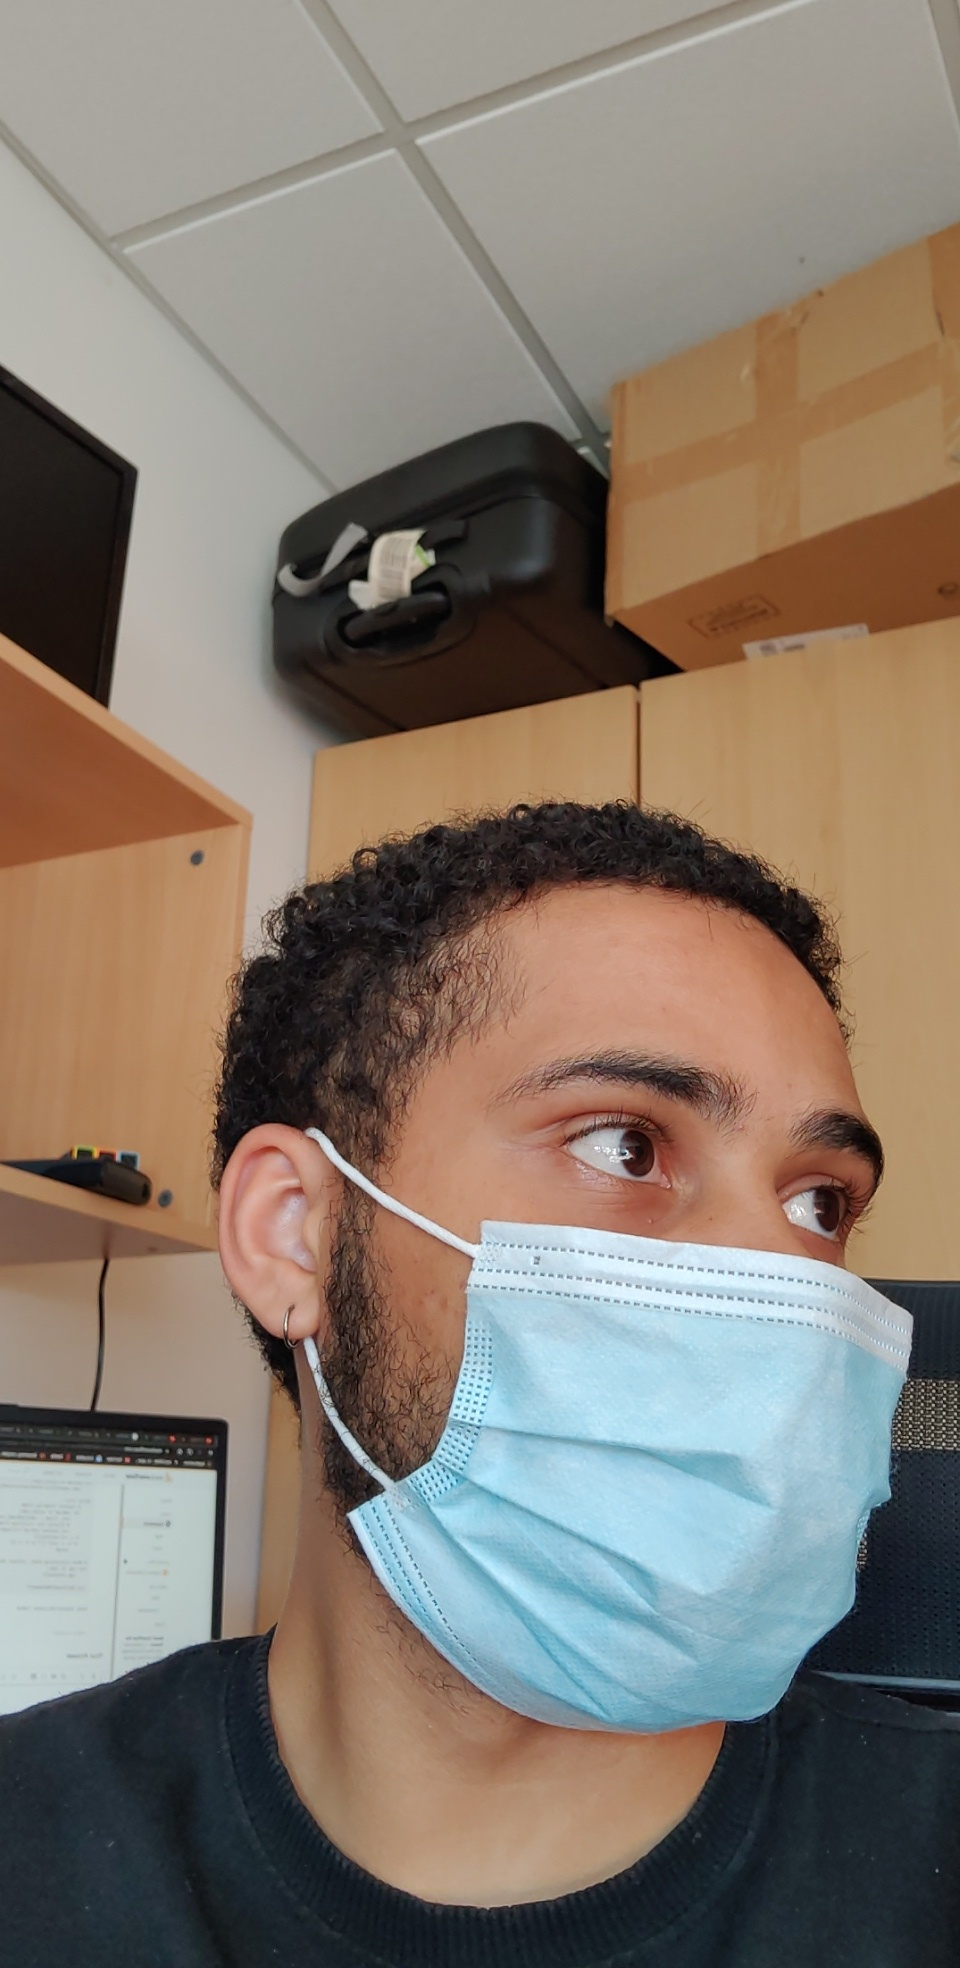mask: (404, 1222, 925, 1741)
